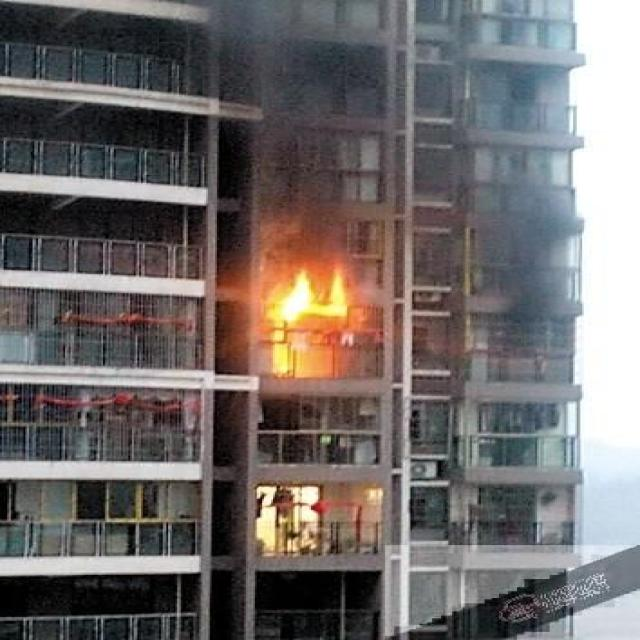fire: (262, 266, 349, 364)
smoke: (240, 16, 360, 258)
